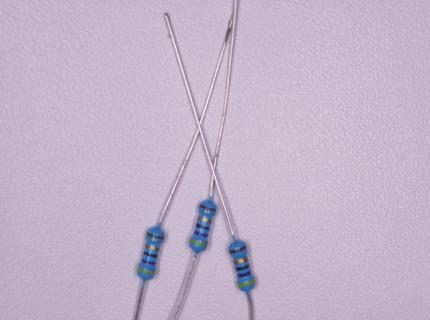Gold band: (145, 243, 160, 252), (198, 215, 212, 224), (234, 256, 248, 265)
Violet band: (237, 270, 252, 277), (141, 258, 156, 265), (194, 230, 208, 237)
Yellow band: (189, 238, 208, 248), (237, 278, 256, 287), (137, 267, 155, 275)
